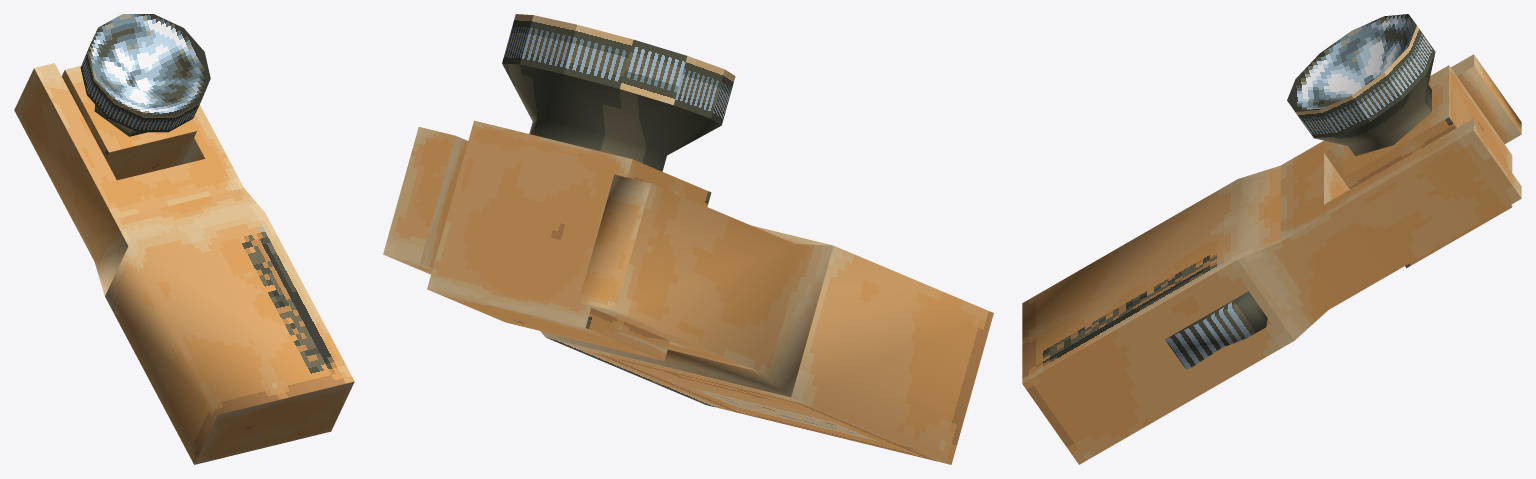
Rendered from silent_hill_1_meshes_-_flashlight.glb.
3 renders of one model, left to right at view 1: azimuth 30°, elevation 25°; view 2: azimuth 150°, elevation 25°; view 3: azimuth 270°, elevation 25°, orthographic. The views are drawn at different scales.
Visible parts, largest first — view 1: flashlight; view 2: flashlight; view 3: flashlight.
Boxes of the visible parts, box(x1,y1,x2,y2) form: flashlight: box(14, 14, 354, 464); flashlight: box(383, 14, 993, 464); flashlight: box(1022, 14, 1521, 464).
Bounding box in the file's own units: 0.498 × 1.05 × 1.19.
Materials: 1 (1 with a texture image).
